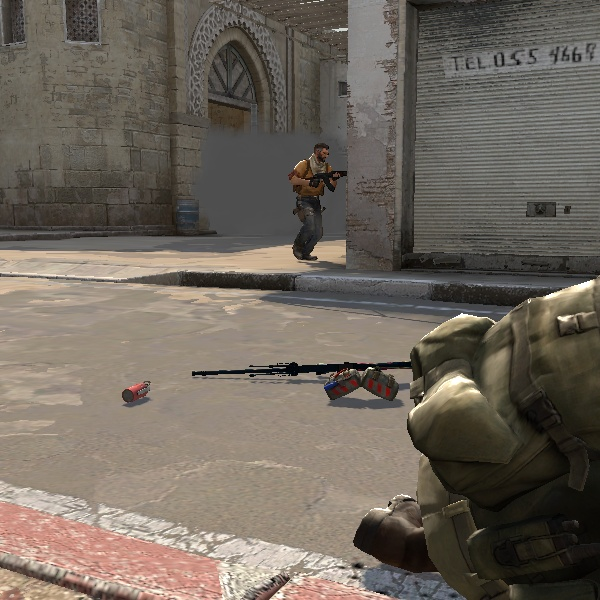t_body: (278, 140, 349, 267)
t_head: (306, 140, 334, 168)
